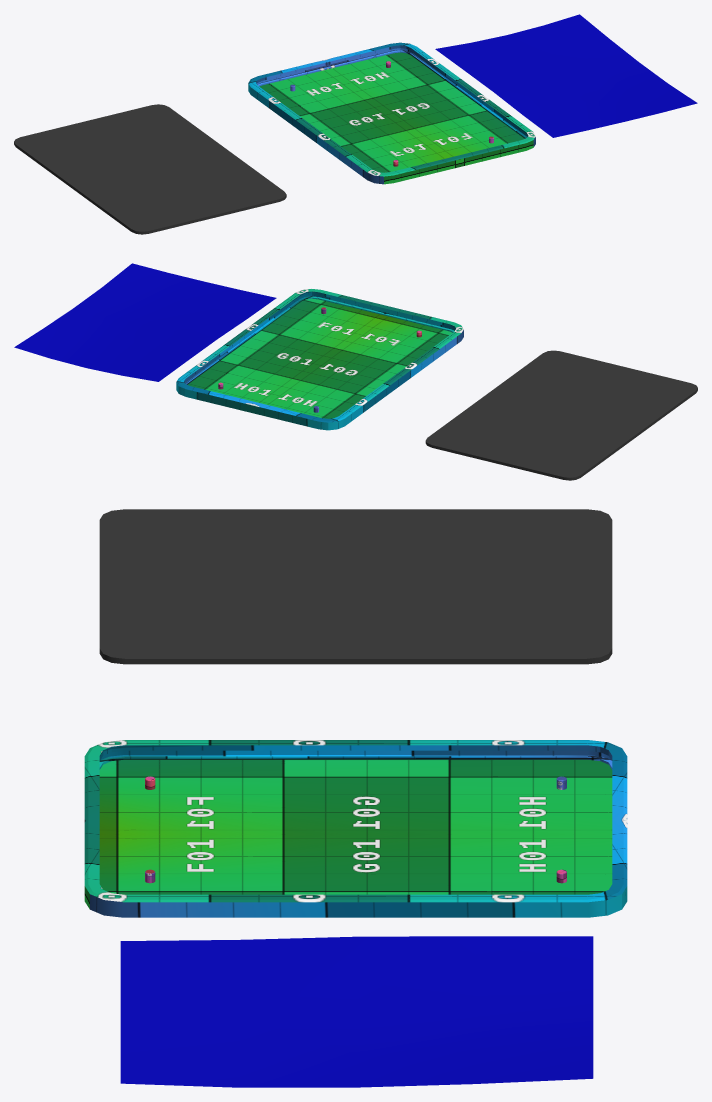
Rendered from ADSmallSupport_low.fbx.
3 renders of one model, top to bottom at view 1: azimuth 30°, elevation 25°; view 2: azimuth 150°, elevation 25°; view 3: azimuth 270°, elevation 25°, orthographic. The views are drawn at different scales.
Visible parts, largest first — view 1: SmallSupportAD_low, SmallGlassSupport_low, AD_low; view 2: SmallSupportAD_low, SmallGlassSupport_low, AD_low; view 3: SmallSupportAD_low, SmallGlassSupport_low, AD_low.
Boxes of the visible parts, x1=… form: SmallSupportAD_low: x1=248, y1=42, x2=535, y2=184; SmallGlassSupport_low: x1=14, y1=104, x2=286, y2=234; AD_low: x1=435, y1=14, x2=697, y2=137; SmallSupportAD_low: x1=176, y1=289, x2=463, y2=430; SmallGlassSupport_low: x1=425, y1=350, x2=697, y2=480; AD_low: x1=14, y1=263, x2=276, y2=381; SmallSupportAD_low: x1=84, y1=740, x2=627, y2=917; SmallGlassSupport_low: x1=99, y1=509, x2=612, y2=664; AD_low: x1=120, y1=936, x2=593, y2=1087.
Size of the model in its own units: 164 by 3.88 by 68.18.
